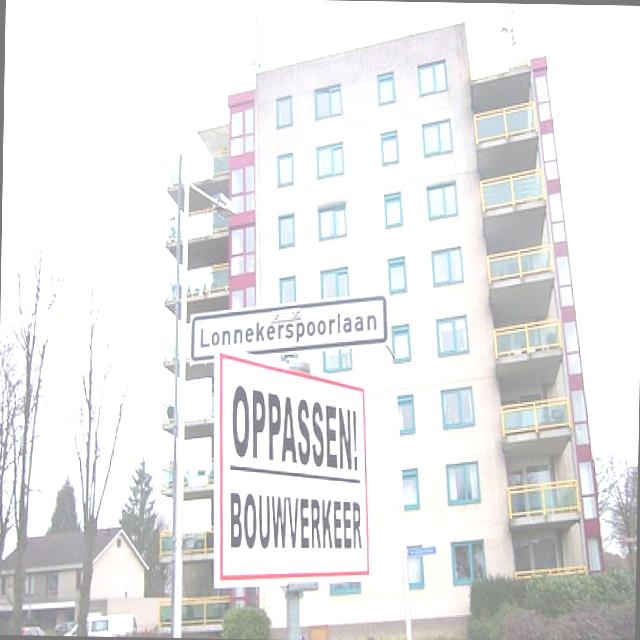Vehicle: (61, 612, 134, 636), (45, 620, 75, 634), (20, 623, 42, 635)
